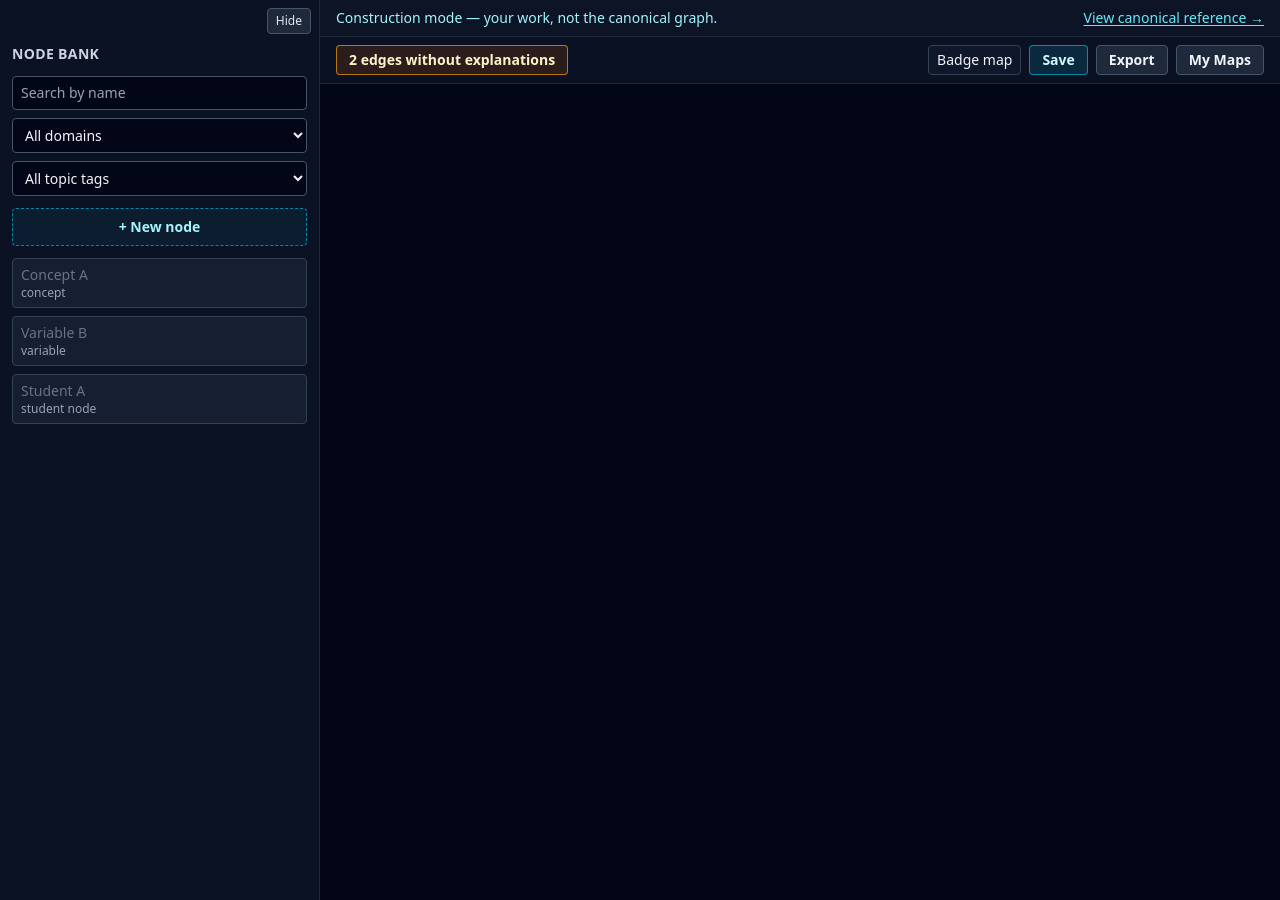
ConstructionCanvas Session 4 behaviors › T5: badge click cycles through unfilled edges and opens explanation popover
Click the button "2 edges without explanations".
click(452, 60)  # box [336,45,568,75]
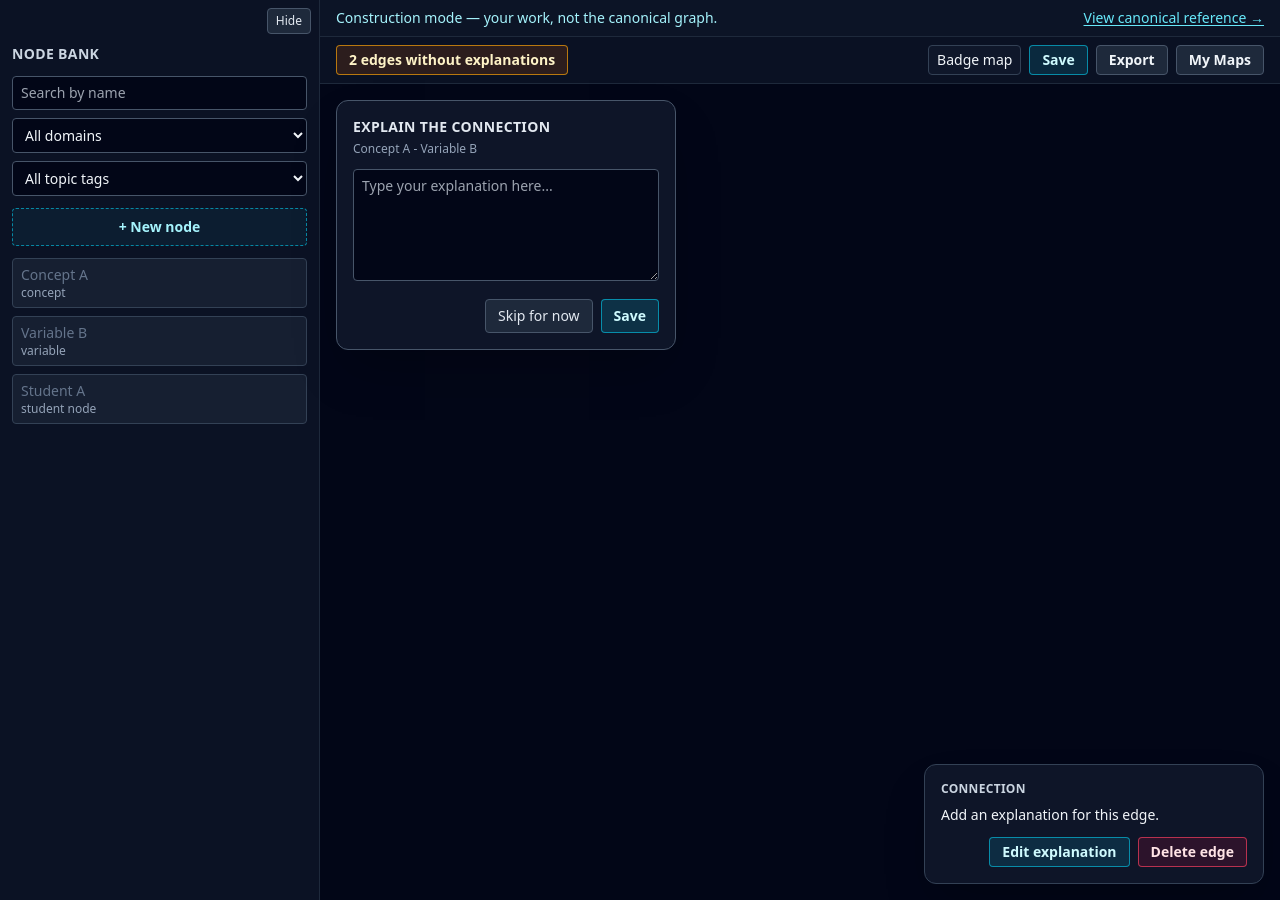
expect the text "Concept A - Variable B" is shown: met, box [353,140,477,157]
Click the button "2 edges without explanations".
click(452, 60)  # box [336,45,568,75]
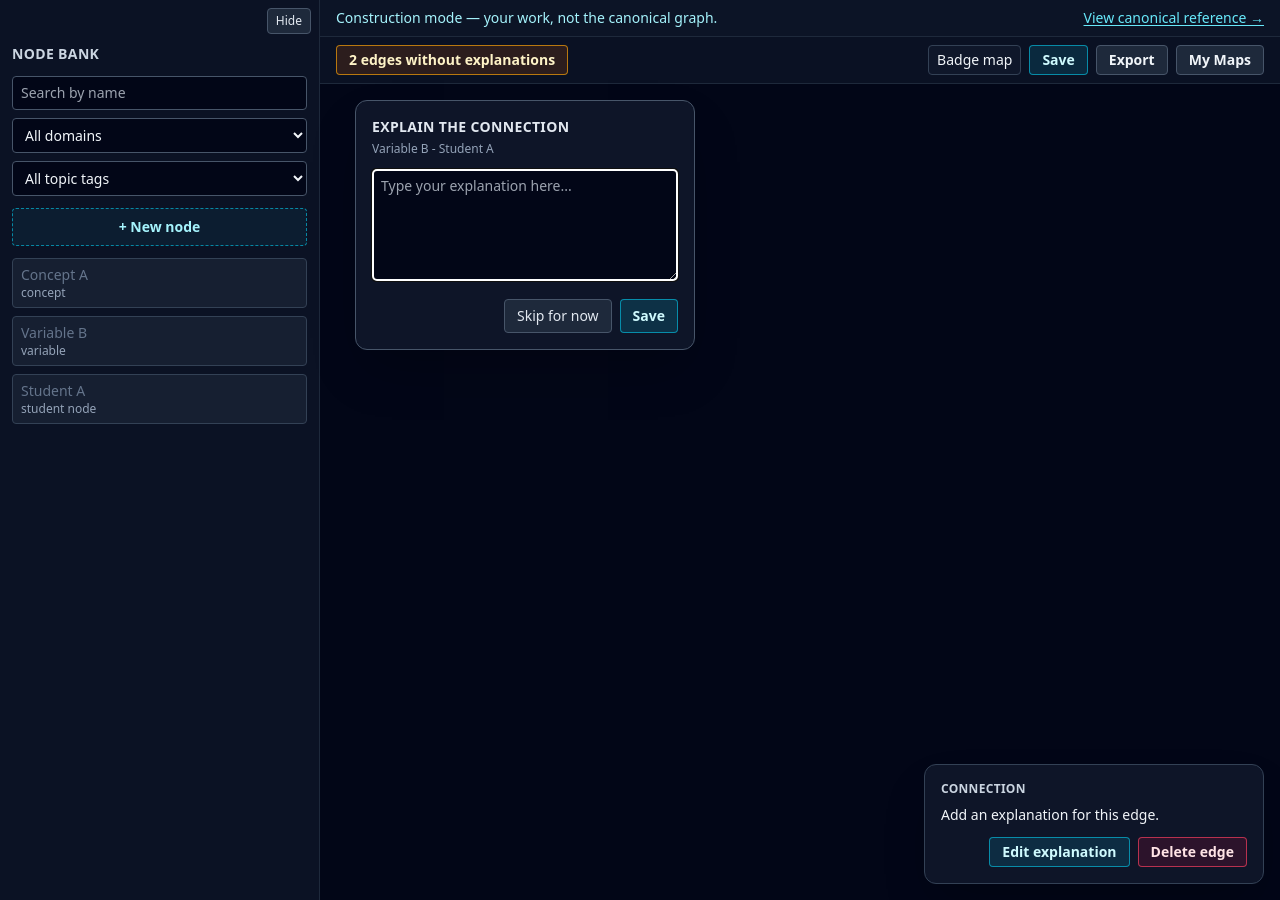
expect the text "Variable B - Student A" is shown: met, box [372,140,494,157]
